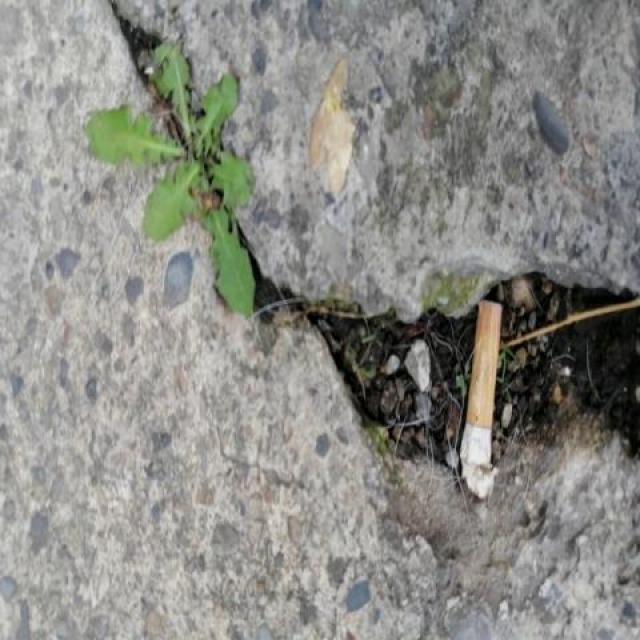non-organic waste: (456, 296, 507, 504)
